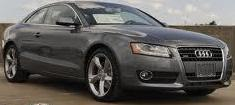front_view: (119, 34, 235, 91)
headlight: (128, 37, 174, 62)
side_glass: (25, 5, 84, 29)
